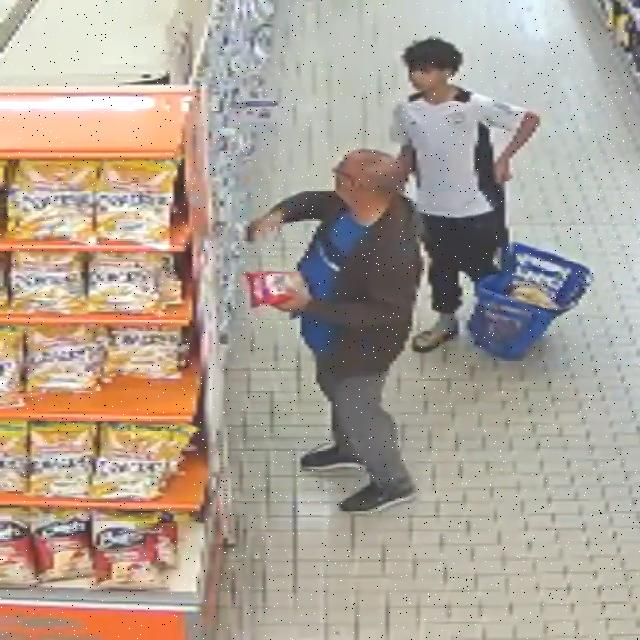article: (244, 270, 309, 310)
hands: (248, 209, 283, 242), (271, 286, 311, 313), (494, 156, 512, 184)
person: (248, 150, 422, 512), (391, 37, 539, 352)
